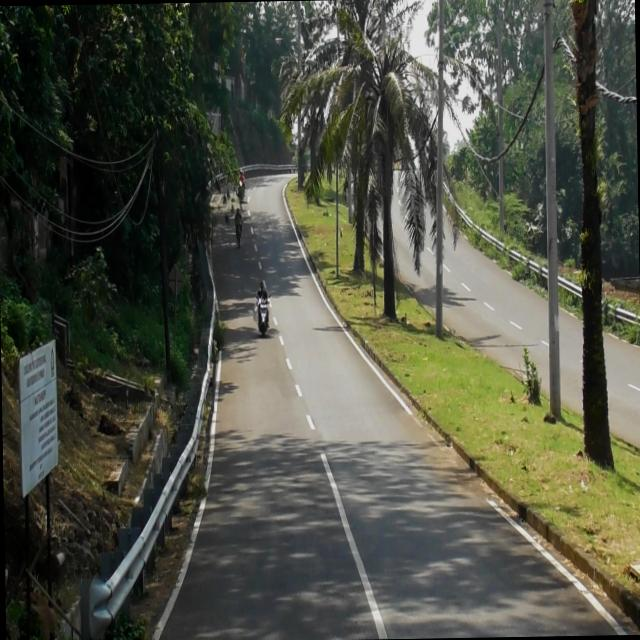motorcycle: (254, 292, 273, 334), (236, 182, 245, 201)
person: (256, 280, 268, 302), (233, 207, 243, 227), (237, 170, 244, 188)
rider_region: (253, 276, 272, 333), (234, 164, 248, 201)
